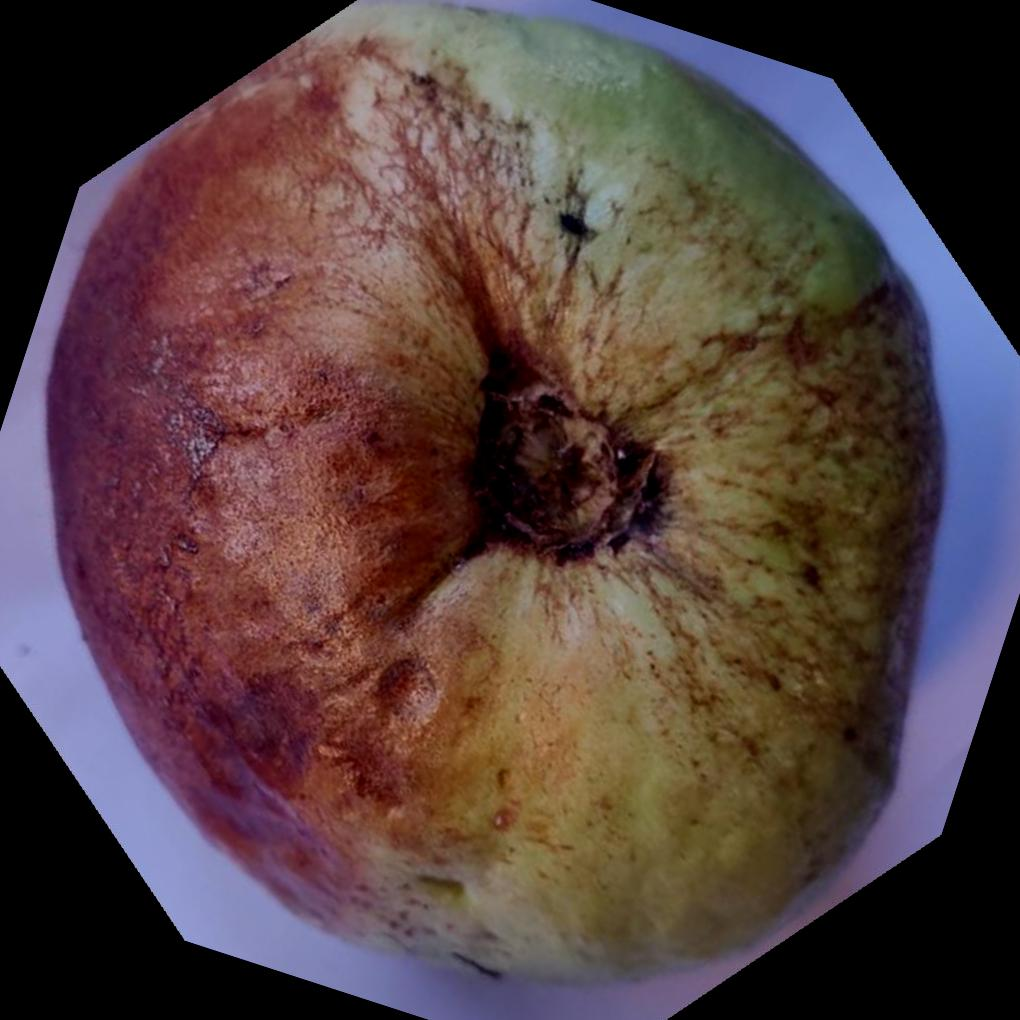FreshOrange: (40, 1, 945, 990)
